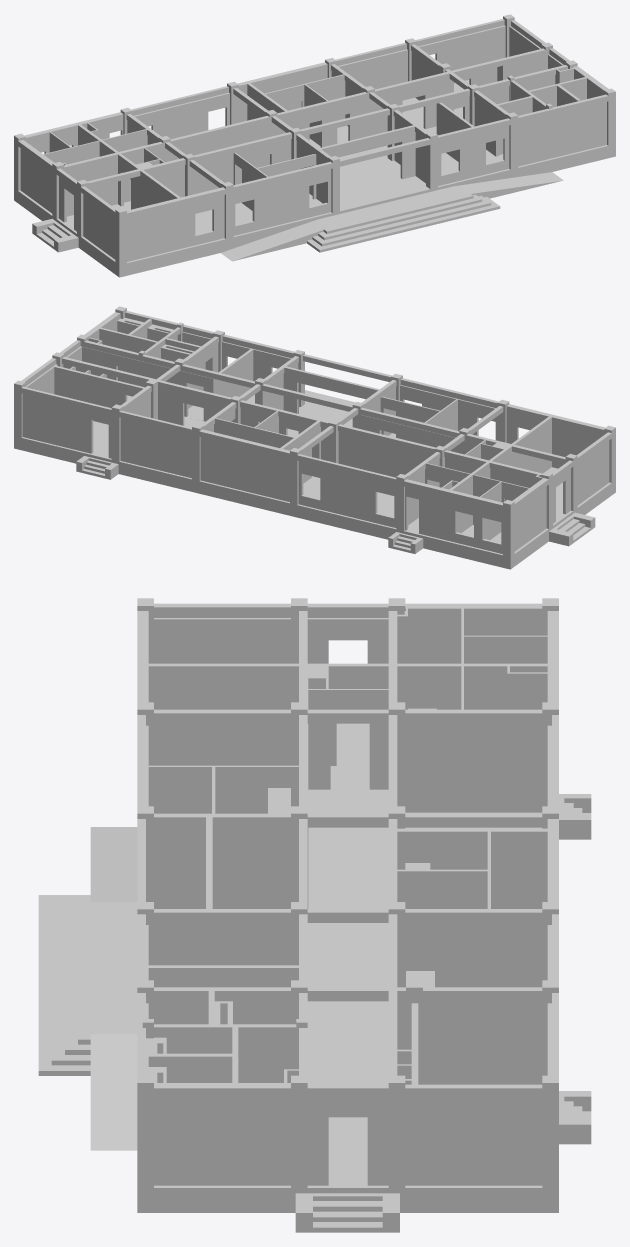
The model's file is san_tang1.glb.
The picture shows the model from 3 angles, top to bottom: view 1: azimuth 30°, elevation 25°; view 2: azimuth 150°, elevation 25°; view 3: azimuth 270°, elevation 25°; orthographic projection. The views are drawn at different scales.
Parts seen in each view (by area): view 1: G-Object.047, G-Object.048, G-Object.055, G-Object.056, G-Object.054; view 2: G-Object.047, G-Object.048, G-Object.055, G-Object.056, G-Object.054; view 3: G-Object.047, G-Object.048, G-Object.055, G-Object.054, G-Object.056.
Boxes of the visible parts, bbox=[...] form: G-Object.047: bbox=[20, 25, 606, 261]; G-Object.048: bbox=[18, 19, 608, 218]; G-Object.055: bbox=[14, 146, 615, 277]; G-Object.056: bbox=[14, 14, 615, 267]; G-Object.054: bbox=[18, 80, 608, 265]; G-Object.047: bbox=[22, 313, 609, 553]; G-Object.048: bbox=[21, 311, 611, 510]; G-Object.055: bbox=[14, 390, 615, 569]; G-Object.056: bbox=[14, 306, 615, 559]; G-Object.054: bbox=[21, 394, 611, 557]; G-Object.047: bbox=[142, 607, 551, 1185]; G-Object.048: bbox=[137, 603, 558, 1098]; G-Object.055: bbox=[38, 794, 591, 1232]; G-Object.054: bbox=[154, 708, 542, 1193]; G-Object.056: bbox=[137, 598, 558, 1193].
Size of the model in its own units: 42.82 by 4.95 by 19.08.
3 materials, 2 textured.
